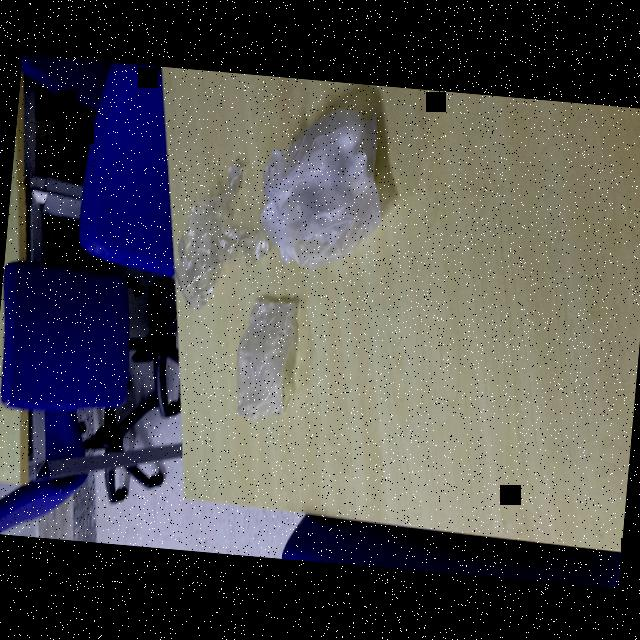plastic_bag: (240, 84, 403, 297)
scrap_plastic: (154, 144, 282, 320), (229, 280, 325, 431)
